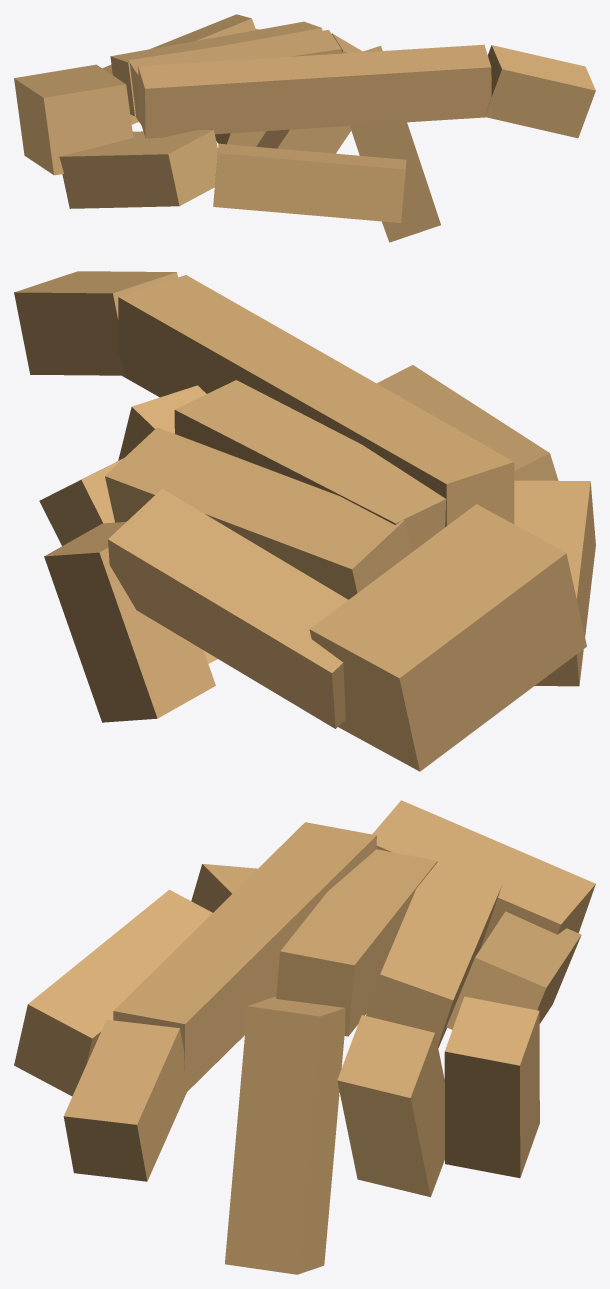
The picture shows the model from 3 angles, top to bottom: view 1: azimuth 30°, elevation 25°; view 2: azimuth 150°, elevation 25°; view 3: azimuth 270°, elevation 25°; orthographic projection. The views are drawn at different scales.
Parts seen in each view (by area): view 1: node_MeshObject826782400-PolyPaper18; view 2: node_MeshObject826782400-PolyPaper18; view 3: node_MeshObject826782400-PolyPaper18.
Boxes of the visible parts, x1,y1,x2,y2 form: node_MeshObject826782400-PolyPaper18: [14, 14, 595, 242]; node_MeshObject826782400-PolyPaper18: [14, 271, 595, 771]; node_MeshObject826782400-PolyPaper18: [14, 800, 595, 1274].
Size of the model in its own units: 0.2974 by 0.125 by 0.2347.
